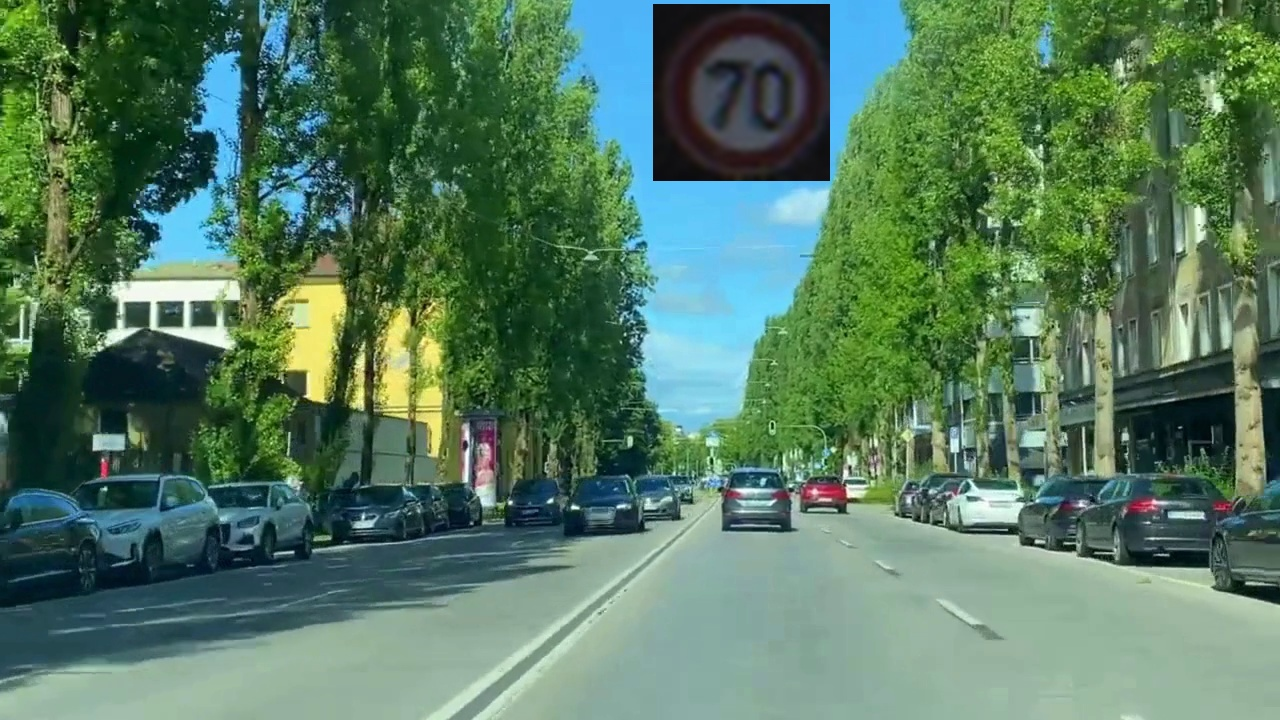Speed 70: (653, 4, 830, 181)
